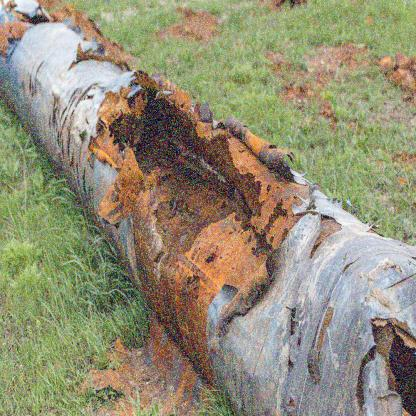burst: (108, 64, 308, 285)
